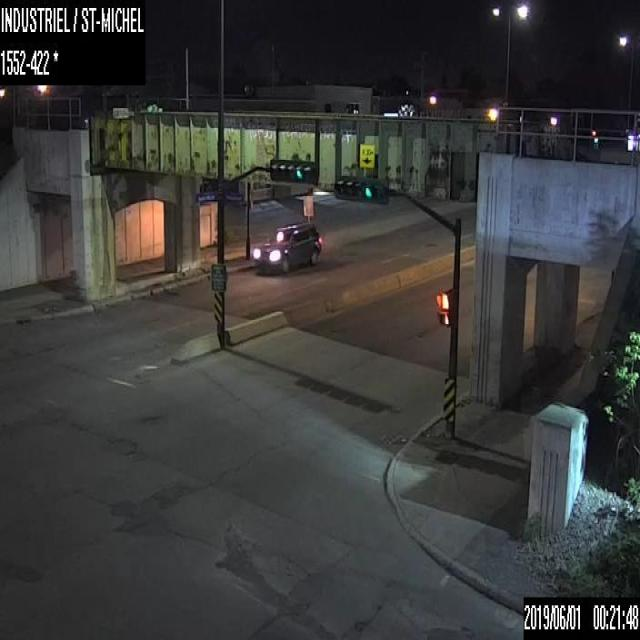vehicle: (252, 221, 321, 272)
